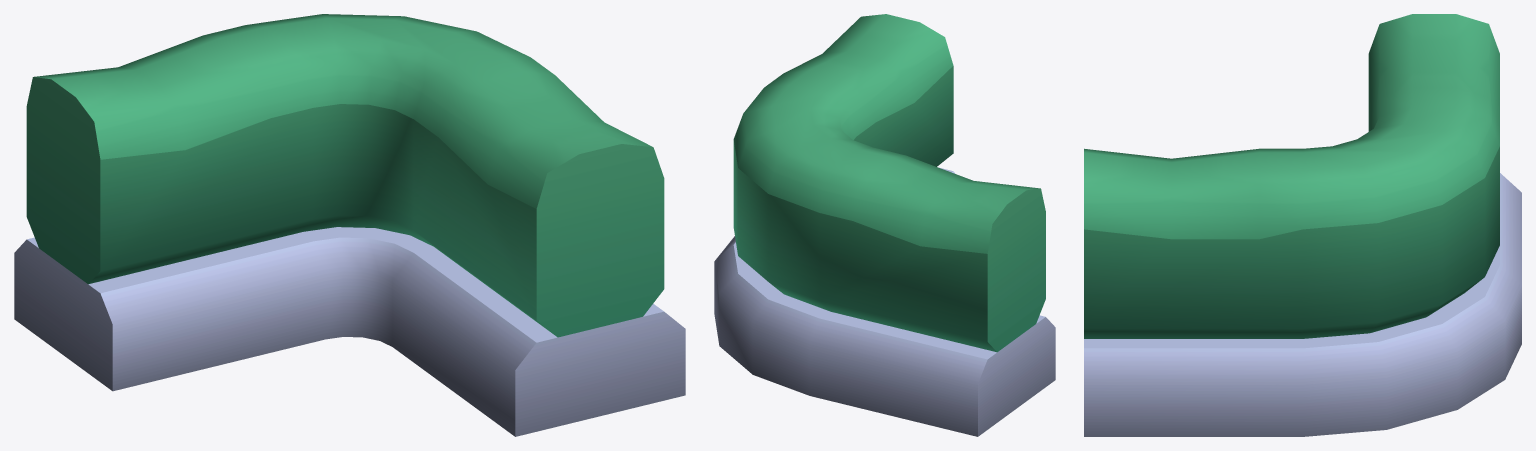
File: hedge-large-curved.glb
The picture shows the model from 3 angles, left to right: view 1: azimuth 30°, elevation 25°; view 2: azimuth 150°, elevation 25°; view 3: azimuth 270°, elevation 25°; orthographic projection. The views are drawn at different scales.
Parts seen in each view (by area): view 1: hedge-large-curved; view 2: hedge-large-curved; view 3: hedge-large-curved.
Part boxes in pixels (x1=…): hedge-large-curved: x1=14, y1=14, x2=685, y2=436; hedge-large-curved: x1=714, y1=14, x2=1055, y2=436; hedge-large-curved: x1=1084, y1=14, x2=1521, y2=436.
Size of the model in its own units: 1 by 0.6001 by 1.
Materials: 1 (1 with a texture image).
